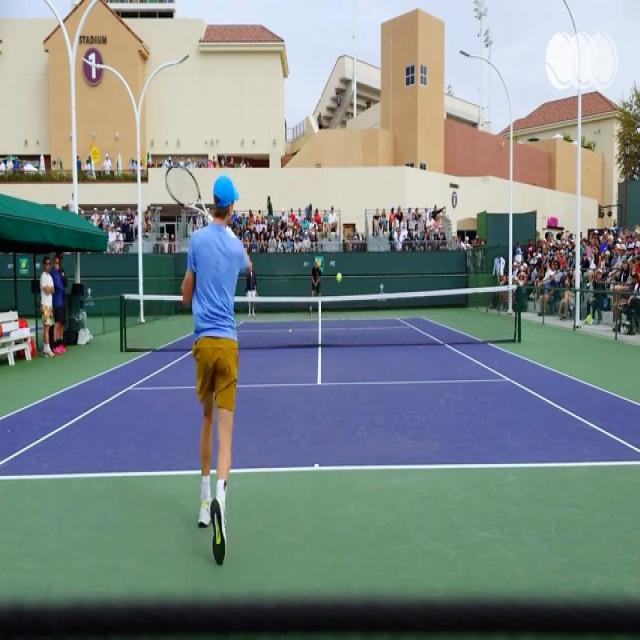forehand-finish: (160, 166, 252, 570)
